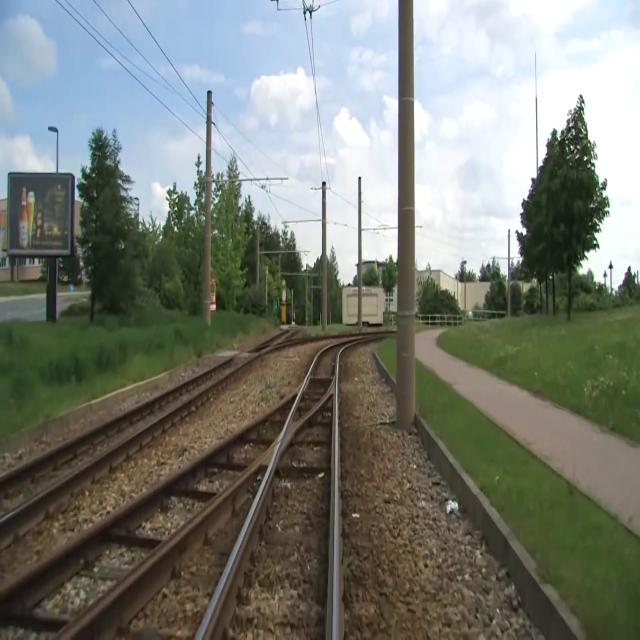rail-track: (0, 396, 295, 639), (0, 350, 259, 517), (201, 388, 335, 639), (288, 345, 341, 428)
